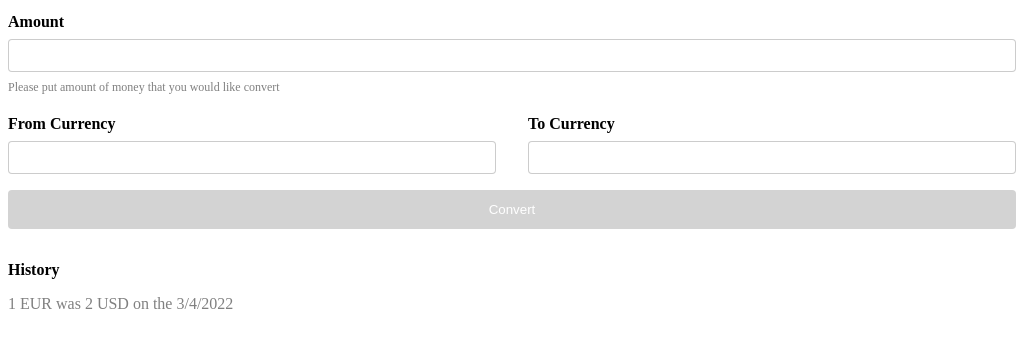
Test: Converter › renders message about not supported currency
Type "ASD" into the field labelled "From Currency".
click(252, 158); type("ASD")  # box [8, 141, 496, 174]
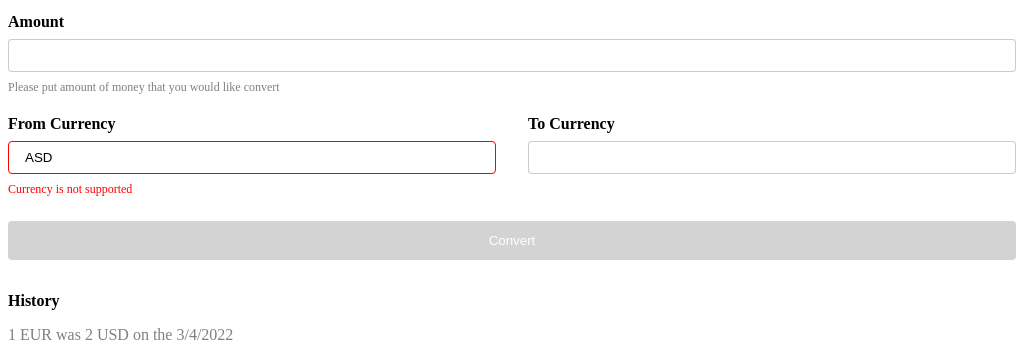
Check: the text "Currency is not supported" is shown, box [8, 182, 132, 196]
